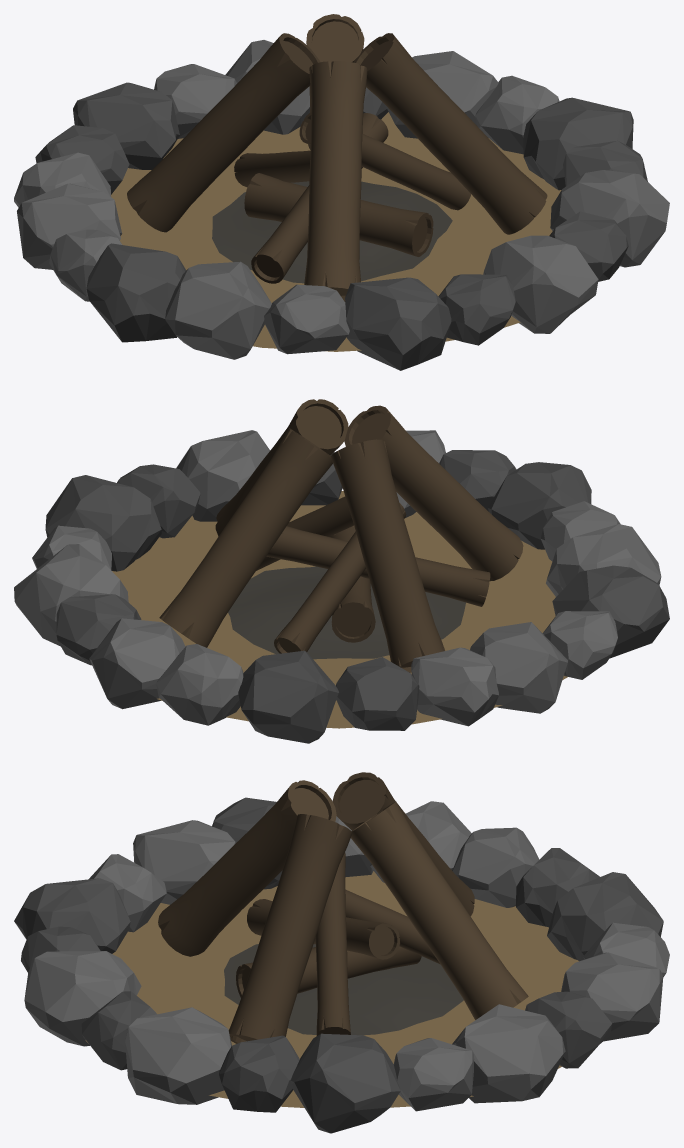
The model's file is fire_pit.fbx.
3 renders of one model, top to bottom at view 1: azimuth 30°, elevation 25°; view 2: azimuth 150°, elevation 25°; view 3: azimuth 270°, elevation 25°, orthographic. The views are drawn at different scales.
Visible parts, largest first — view 1: Dirt1, pCylinder3, pCylinder4, pCylinder5, pPlatonic24, pPlatonic15, pPlatonic23, pPlatonic25, Ash, pPlatonic12, pPlatonic17, pPlatonic6 (+17 smaller); view 2: Dirt1, pCylinder6, pCylinder3, pCylinder5, Ash, pPlatonic17, pPlatonic6, pPlatonic25, pPlatonic20, pPlatonic16, pPlatonic19, pPlatonic24 (+18 smaller); view 3: Dirt1, pCylinder6, pCylinder4, pCylinder5, pPlatonic12, Ash, pPlatonic6, pPlatonic11, pPlatonic23, pPlatonic20, pPlatonic17, pPlatonic24 (+18 smaller).
Part boxes in pixels (x1,y1,x2,y2): Dirt1: (111,112,561,351); pCylinder3: (127,33,320,232); pCylinder4: (353,33,547,234); pCylinder5: (304,61,367,301); pPlatonic24: (345,277,451,370); pPlatonic15: (165,261,271,359); pPlatonic23: (483,235,598,333); pPlatonic25: (86,243,186,342); Ash: (212,181,452,283); pPlatonic12: (550,170,669,267); pPlatonic17: (73,82,179,169); pPlatonic6: (523,97,633,190); Dirt1: (112,491,567,728); pCylinder6: (159,428,332,647); pCylinder3: (330,439,444,672); pCylinder5: (344,405,523,581); Ash: (228,566,465,659); pPlatonic17: (238,650,338,743); pPlatonic6: (45,475,161,571); pPlatonic25: (552,565,669,658); pPlatonic20: (89,618,185,709); pPlatonic16: (470,622,567,713); pPlatonic19: (411,647,498,726); pPlatonic24: (488,462,591,549); Dirt1: (85,871,578,1107); pCylinder6: (351,801,528,1019); pCylinder4: (228,814,352,1043); pCylinder5: (158,780,336,956); pPlatonic12: (125,1007,231,1104); Ash: (224,944,463,1035); pPlatonic6: (290,1033,400,1133); pPlatonic11: (452,1004,565,1103); pPlatonic23: (24,951,141,1046); pPlatonic20: (561,952,663,1041); pPlatonic17: (547,872,663,961); pPlatonic24: (14,878,130,953).
Size of the model in its own units: 18.9 by 6.37 by 18.6.
